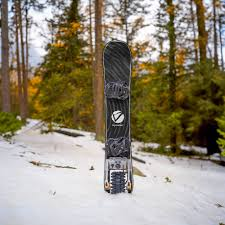snowboard: (101, 40, 133, 194)
